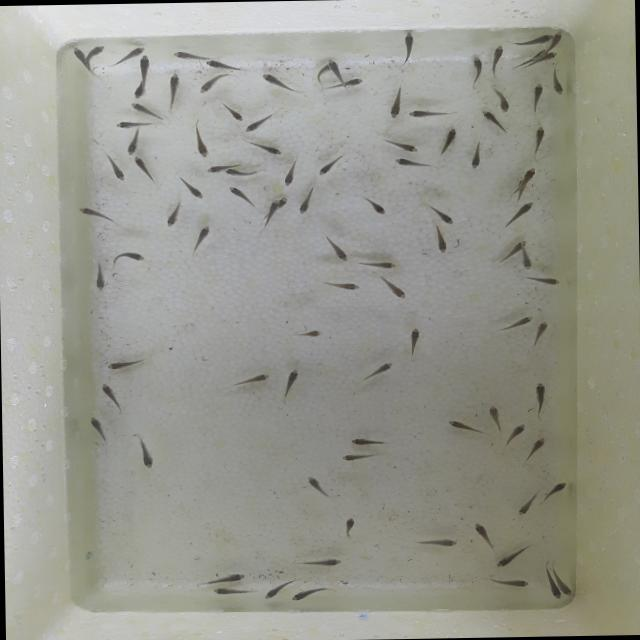fingerling: (260, 68, 296, 95), (378, 278, 412, 302), (491, 548, 524, 571), (190, 128, 213, 160), (227, 185, 259, 208), (434, 126, 462, 152), (468, 518, 496, 544), (202, 55, 240, 74), (205, 571, 252, 586), (513, 491, 539, 518), (189, 223, 214, 251), (237, 368, 270, 389), (443, 416, 479, 435), (426, 202, 454, 226), (98, 378, 122, 406), (105, 354, 142, 372), (74, 203, 109, 222), (294, 187, 318, 214), (489, 86, 512, 114), (281, 370, 305, 396), (528, 122, 550, 150), (528, 318, 550, 346), (348, 432, 384, 449), (401, 27, 417, 65), (328, 240, 353, 264), (307, 471, 327, 501), (520, 30, 555, 47), (366, 360, 393, 382), (418, 534, 460, 548), (544, 478, 568, 502), (464, 144, 486, 170), (134, 153, 154, 181), (110, 116, 150, 130), (280, 157, 300, 185), (526, 432, 546, 460), (250, 141, 287, 156), (86, 413, 108, 438), (93, 259, 109, 293), (177, 178, 204, 198), (404, 326, 424, 353), (138, 442, 156, 472), (261, 579, 288, 599), (509, 199, 531, 223), (487, 44, 508, 69), (504, 421, 529, 442), (528, 82, 546, 111), (408, 105, 440, 121), (485, 578, 531, 589), (364, 198, 392, 216), (478, 109, 503, 129), (532, 381, 548, 412), (109, 160, 128, 186), (210, 585, 247, 598), (393, 156, 423, 172), (387, 91, 404, 119), (114, 250, 148, 264), (431, 231, 450, 256), (315, 280, 362, 290), (339, 452, 378, 464), (166, 72, 180, 105), (165, 203, 182, 230), (198, 74, 222, 93), (486, 402, 504, 427), (529, 52, 561, 66), (165, 46, 197, 60), (219, 106, 247, 122), (502, 316, 536, 329), (545, 571, 559, 602), (124, 132, 142, 156), (526, 274, 562, 286), (554, 572, 572, 596), (301, 556, 343, 566), (288, 589, 318, 603), (124, 45, 149, 61), (316, 157, 337, 176), (290, 328, 326, 339), (263, 200, 278, 226), (338, 74, 362, 90), (341, 517, 358, 539), (242, 119, 270, 132), (551, 73, 566, 96), (222, 168, 256, 178), (138, 56, 152, 80), (131, 102, 155, 116), (392, 141, 420, 153), (520, 246, 532, 274), (364, 260, 397, 270), (325, 56, 343, 74), (518, 164, 532, 187), (86, 44, 108, 58), (550, 30, 564, 51), (472, 55, 483, 80), (70, 46, 87, 62), (509, 240, 524, 258), (128, 84, 146, 98), (204, 165, 232, 172)
